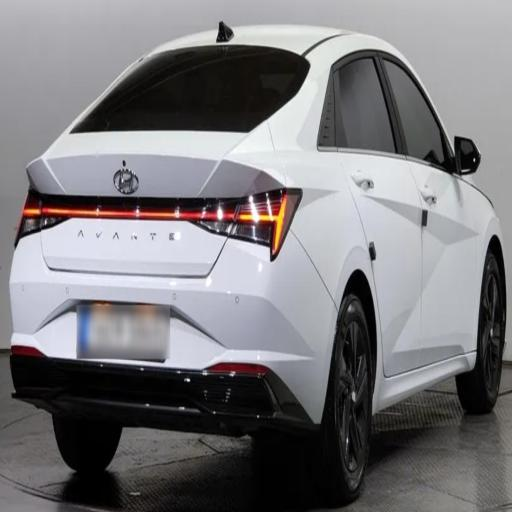normal: (5, 5, 510, 501)
